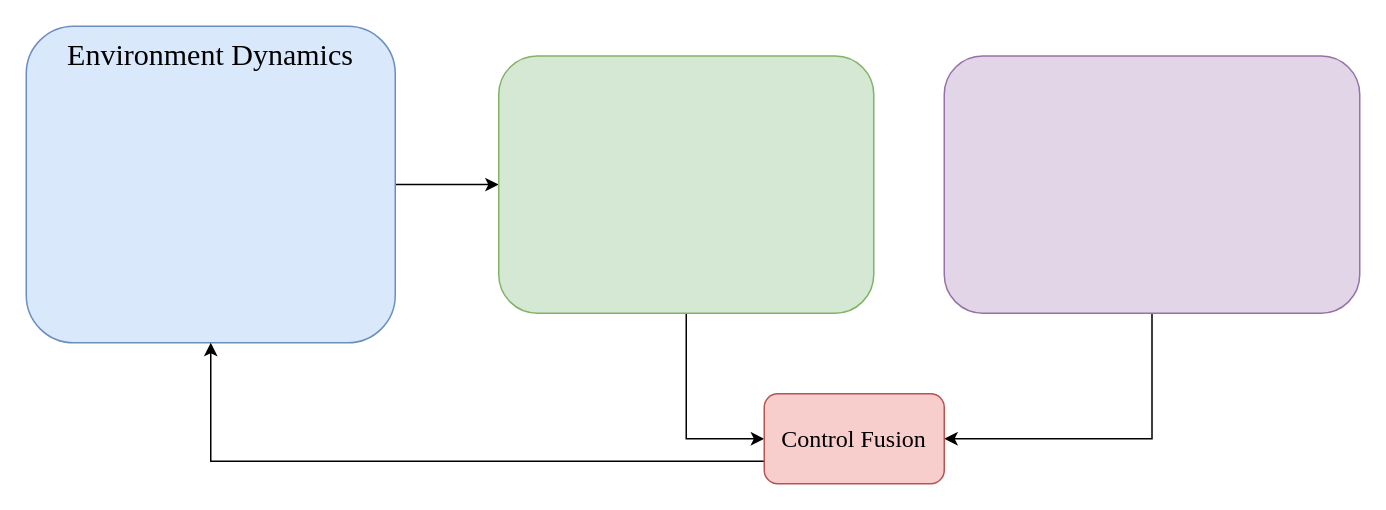
The diagram is 1386 pixels wide and 510 high, and some of its shapes have lost their labels. The shapes that lost their labels are listed below. From the top down, each one's centre as x and y in pixels, then its label:
At pixel 685 183: "PN Basic Controller".
At pixel 1151 183: "DDPG Residual Controller".
